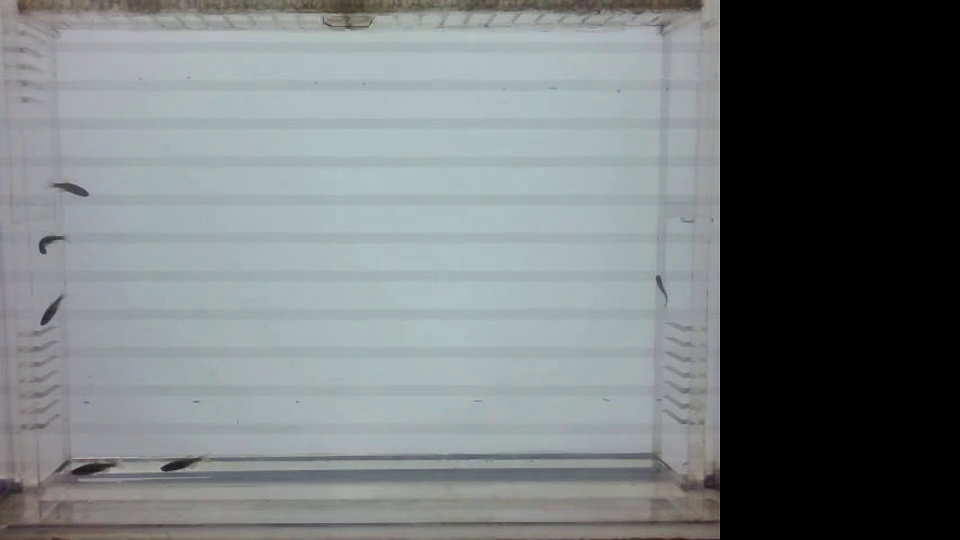fish: (60, 448, 125, 482), (40, 176, 97, 209), (640, 268, 677, 317), (153, 449, 212, 477), (30, 288, 68, 329), (28, 229, 72, 256)
